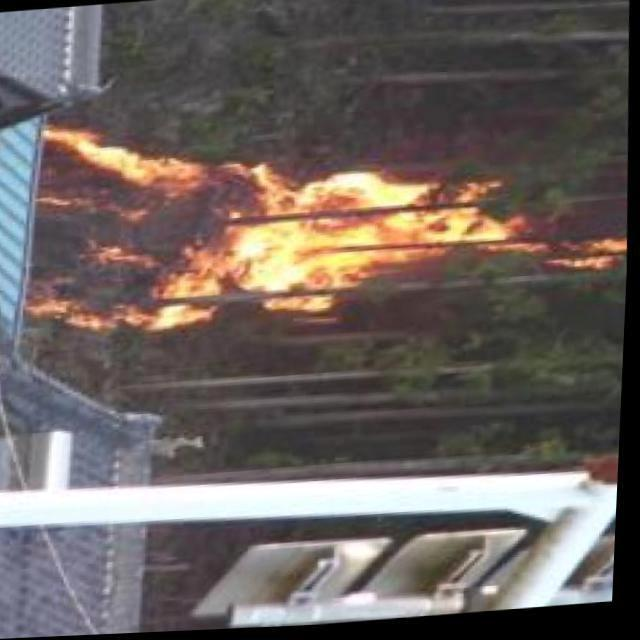fire: (20, 91, 636, 335)
